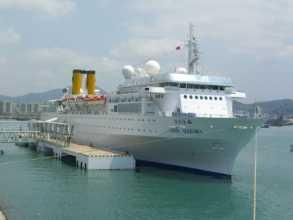warship: (45, 21, 264, 179)
